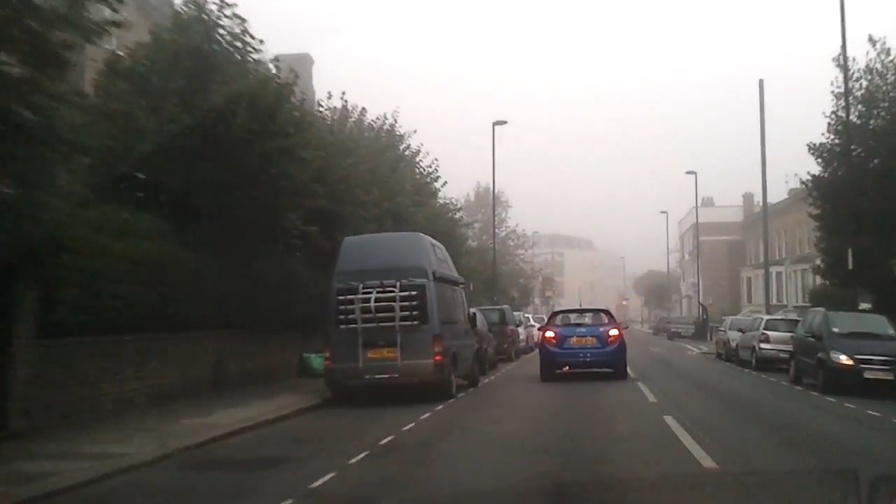bus: (322, 230, 481, 404)
car: (788, 305, 896, 397), (405, 305, 500, 385), (534, 308, 632, 381), (733, 314, 818, 372), (714, 313, 776, 364), (466, 305, 519, 362), (489, 312, 532, 355), (506, 311, 542, 346), (665, 315, 696, 343), (525, 313, 552, 344), (648, 310, 679, 336)
